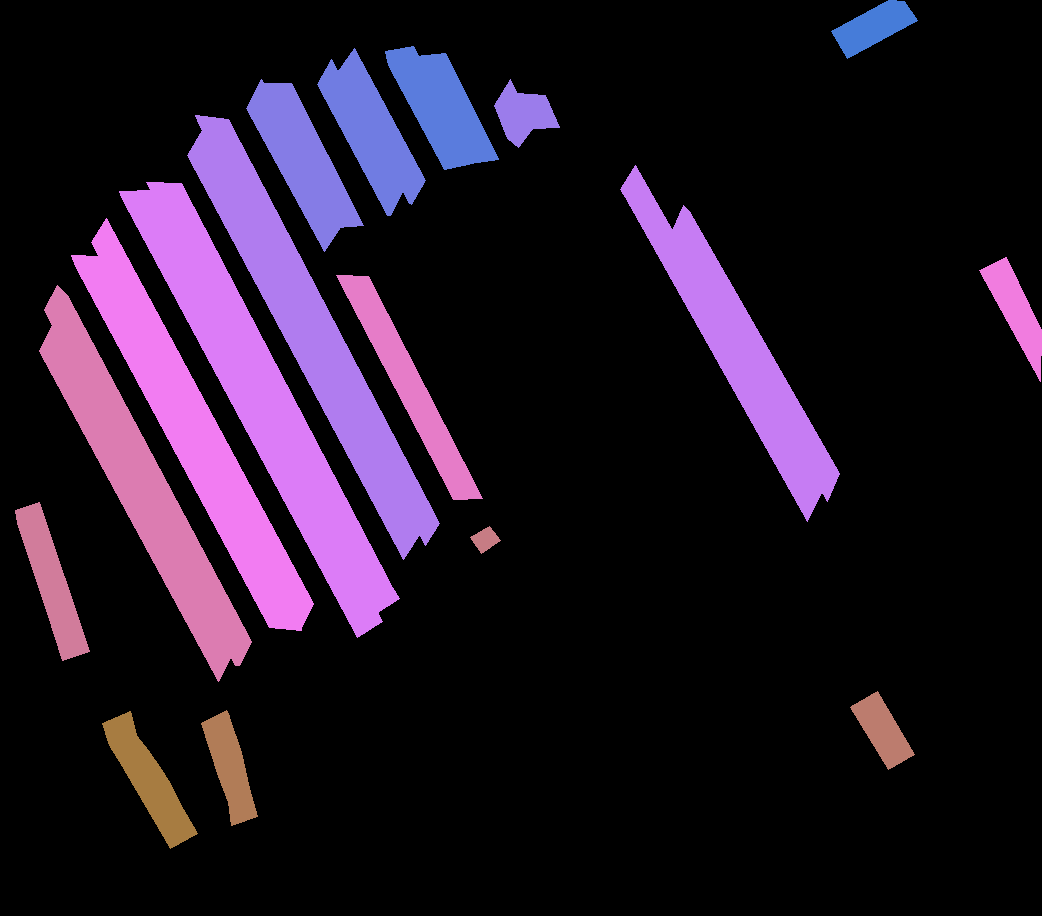parkingspot: (119, 190, 382, 637), (146, 182, 399, 613), (195, 115, 439, 545), (187, 128, 420, 559), (91, 218, 313, 629), (71, 255, 301, 630), (44, 285, 251, 665), (620, 165, 821, 521), (39, 323, 231, 681), (672, 205, 839, 501), (336, 275, 482, 499), (246, 79, 340, 251), (260, 83, 363, 227), (337, 48, 425, 204), (317, 59, 403, 215), (102, 711, 197, 848), (15, 502, 89, 660), (385, 46, 472, 169), (415, 53, 498, 163), (979, 257, 1041, 381), (201, 710, 257, 825), (850, 691, 914, 769), (831, 0, 917, 58), (494, 79, 533, 147), (516, 93, 559, 128), (470, 526, 500, 553)
